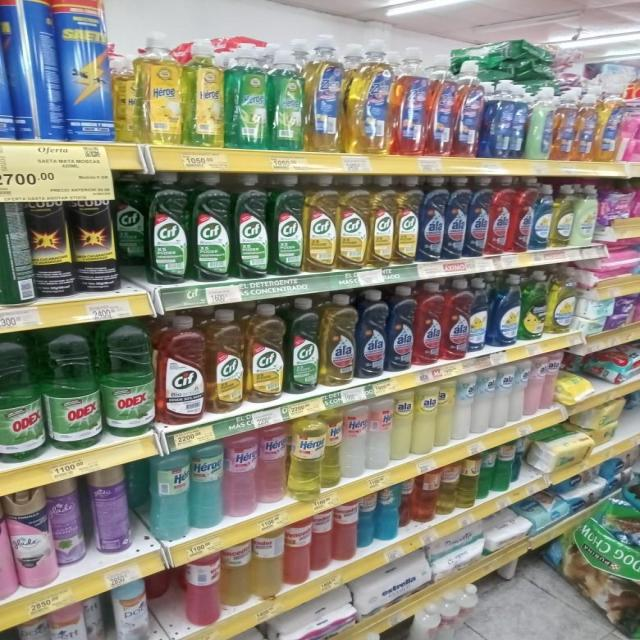ala_conc_amarillo: (322, 292, 355, 386)
ala_conc_azul: (357, 289, 386, 379), (388, 285, 414, 372), (420, 176, 444, 262), (445, 175, 467, 260), (468, 176, 489, 258)
ala_conc_rojo: (415, 281, 442, 366), (443, 278, 469, 360), (489, 175, 512, 255), (513, 177, 532, 253)
ala_crem_amarillo: (414, 383, 437, 456), (392, 390, 413, 460), (437, 379, 453, 448)
cif_conc_bot_amarilla: (208, 307, 245, 413), (247, 302, 284, 404), (306, 174, 338, 274), (339, 174, 368, 270), (370, 175, 395, 268), (396, 176, 419, 265)
cif_conc_botella_roja: (158, 314, 206, 424)
cif_conc_botella_verde: (148, 171, 189, 286), (192, 172, 231, 282), (233, 173, 269, 280), (270, 173, 304, 276), (286, 298, 320, 394), (115, 171, 146, 268)
heroe: (130, 34, 183, 146), (226, 44, 268, 150), (183, 40, 224, 148), (270, 43, 304, 152), (149, 448, 189, 540), (190, 441, 224, 529), (225, 431, 258, 518), (288, 414, 322, 497), (257, 423, 288, 505), (341, 403, 367, 480)
magistral_con_amarillo: (548, 267, 576, 335), (553, 184, 573, 248)
magistral_con_azul: (491, 274, 520, 346), (469, 278, 489, 354), (534, 182, 552, 251)
vencedor: (185, 556, 220, 626), (253, 533, 282, 597), (222, 544, 251, 606), (286, 522, 311, 584), (333, 504, 358, 562), (312, 511, 333, 572)
zorro: (347, 38, 390, 156), (305, 33, 344, 153), (391, 44, 427, 157), (429, 54, 453, 157), (527, 86, 552, 160), (554, 90, 574, 162), (576, 91, 596, 162)
